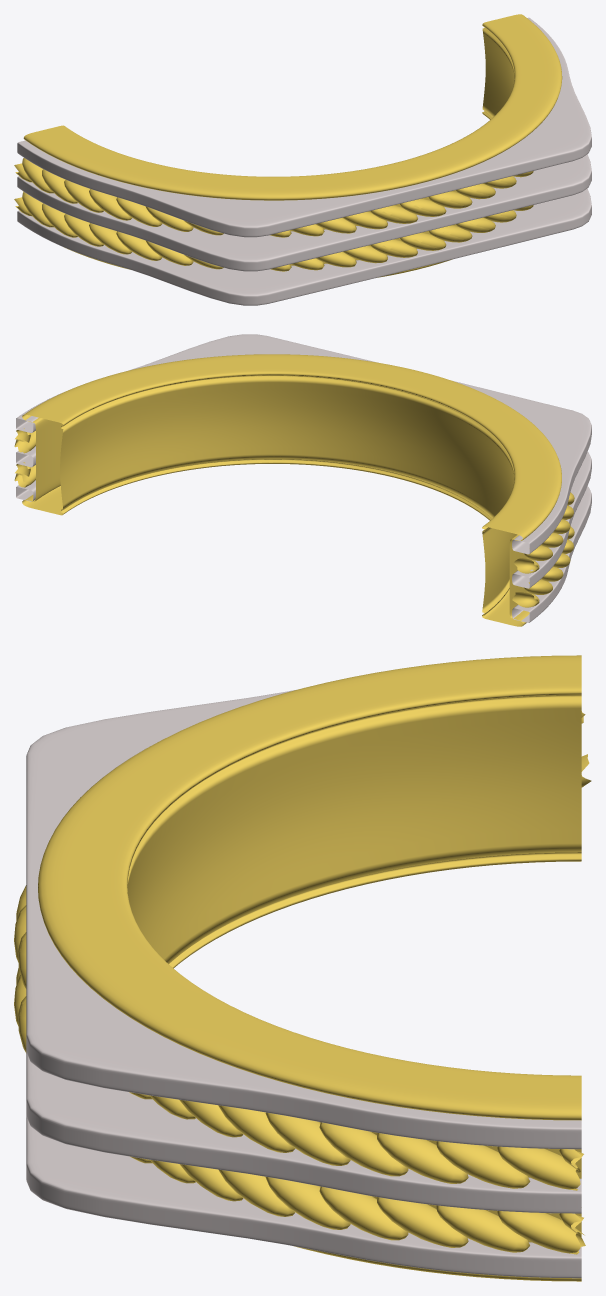
File: Ring_3Top.fbx
3 renders of one model, top to bottom at view 1: azimuth 30°, elevation 25°; view 2: azimuth 150°, elevation 25°; view 3: azimuth 270°, elevation 25°, orthographic. The views are drawn at different scales.
Visible parts, largest first — view 1: RingTop; view 2: RingTop; view 3: RingTop.
Boxes of the visible parts, x1=… form: RingTop: x1=14, y1=14, x2=591, y2=305; RingTop: x1=14, y1=334, x2=591, y2=626; RingTop: x1=14, y1=655, x2=591, y2=1281.
Size of the model in its own units: 4.33 by 0.7321 by 2.21.
